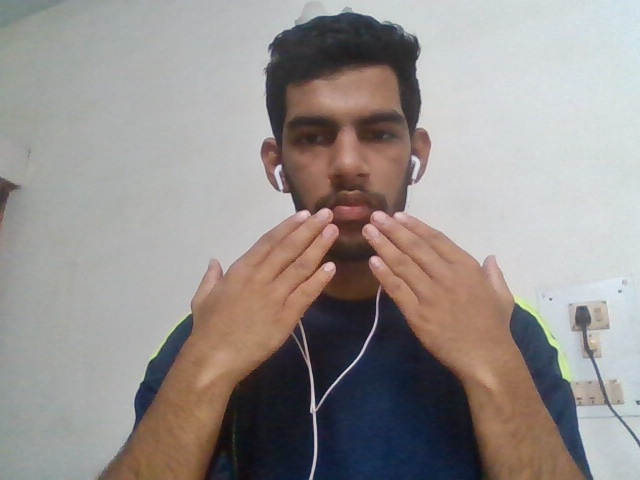thanks: (144, 210, 586, 362)
